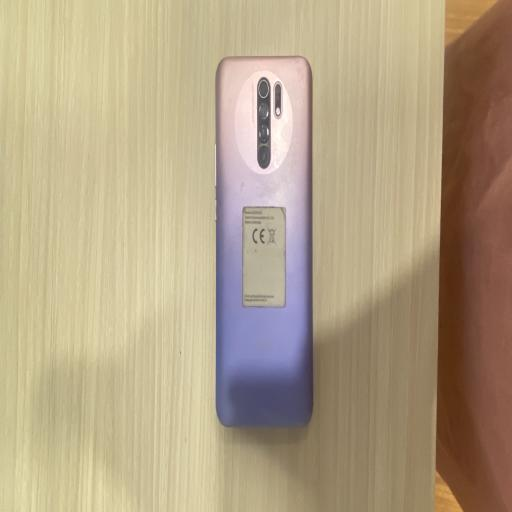hp: (214, 54, 316, 434)
